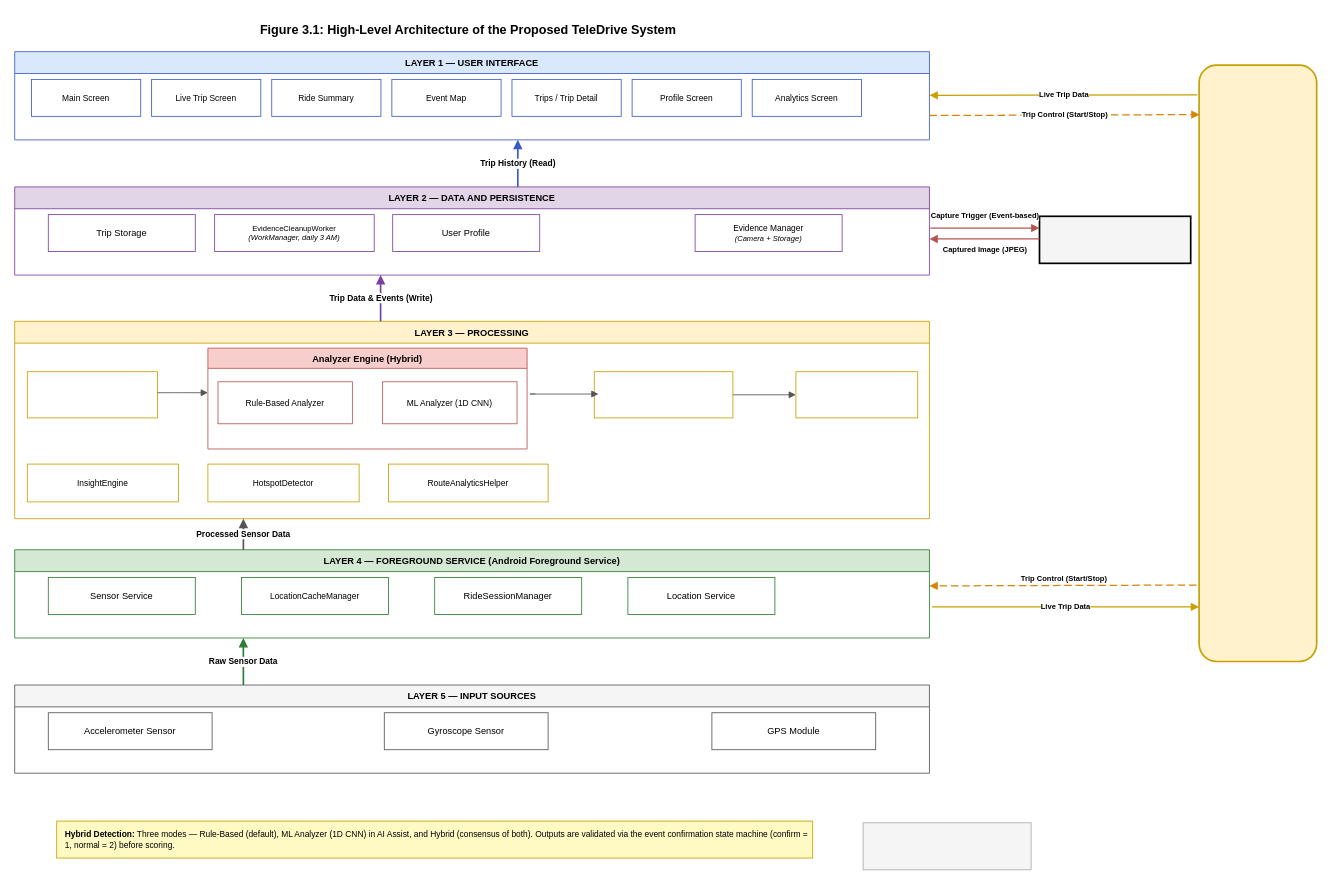
Some shapes in this 1332 by 885 pixel diagram are drawn without their labels. The shapes that lost their labels are listed below. From the top down, each one's centre as x and y in pixels, then its label:
point 1114,239: Camera Hardware (Event-Triggered)
point 1257,363: LiveDataBus – Real-time Event Streaming Bridge
point 92,394: Signal Processing & Feature Extraction
point 663,394: Event Validation (Speed Gate + Confirmation)
point 856,394: Scoring & Fuel Estimation Engine
point 946,846: Legend: ──▶ Data Flow (Solid Arrow) - - ▶ Control Signal (Dashed Arrow)
